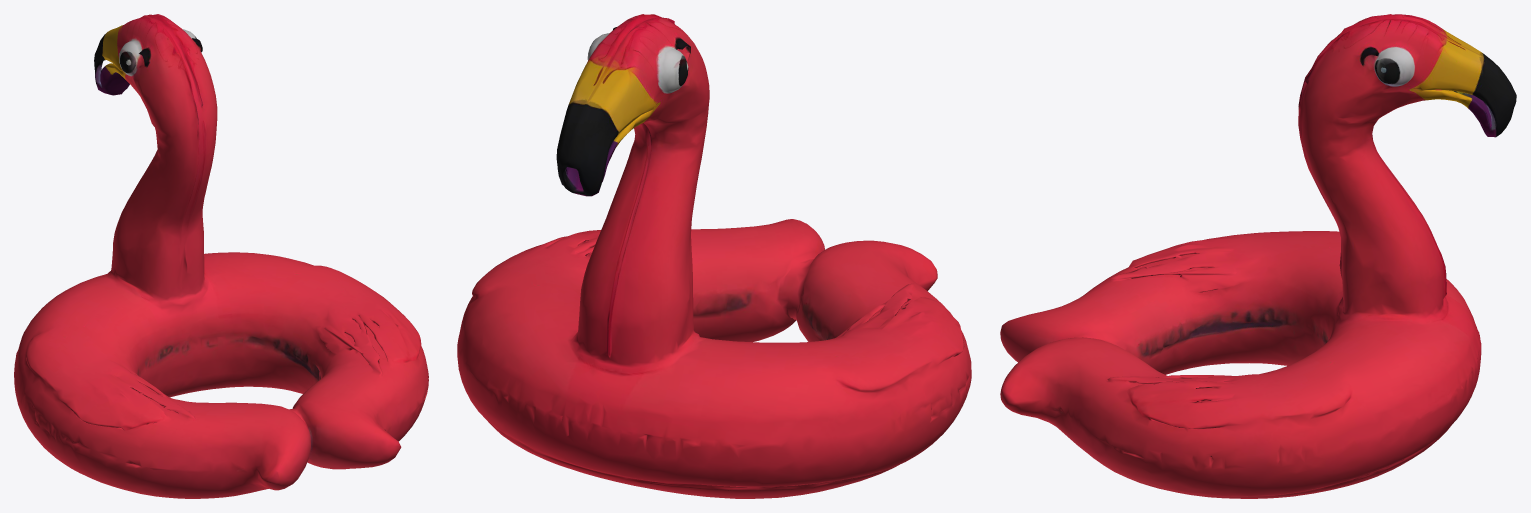
Rendered from pink_flamingo_float_3d_model.glb.
3 views of the same model, side by side, from view 1: azimuth 30°, elevation 25°; view 2: azimuth 150°, elevation 25°; view 3: azimuth 270°, elevation 25° (orthographic). The views are drawn at different scales.
Visible parts, largest first — view 1: tripo_node_5243ea88-31e7-4d8c-88fa-21aec1a0e24f; view 2: tripo_node_5243ea88-31e7-4d8c-88fa-21aec1a0e24f; view 3: tripo_node_5243ea88-31e7-4d8c-88fa-21aec1a0e24f.
Boxes of the visible parts, x1,y1,x2,y2 form: tripo_node_5243ea88-31e7-4d8c-88fa-21aec1a0e24f: (14, 14, 428, 498); tripo_node_5243ea88-31e7-4d8c-88fa-21aec1a0e24f: (457, 14, 971, 498); tripo_node_5243ea88-31e7-4d8c-88fa-21aec1a0e24f: (1000, 14, 1516, 498).
Size of the model in its own units: 0.8954 by 0.8731 by 1.
Materials: 1 (1 with a texture image).
